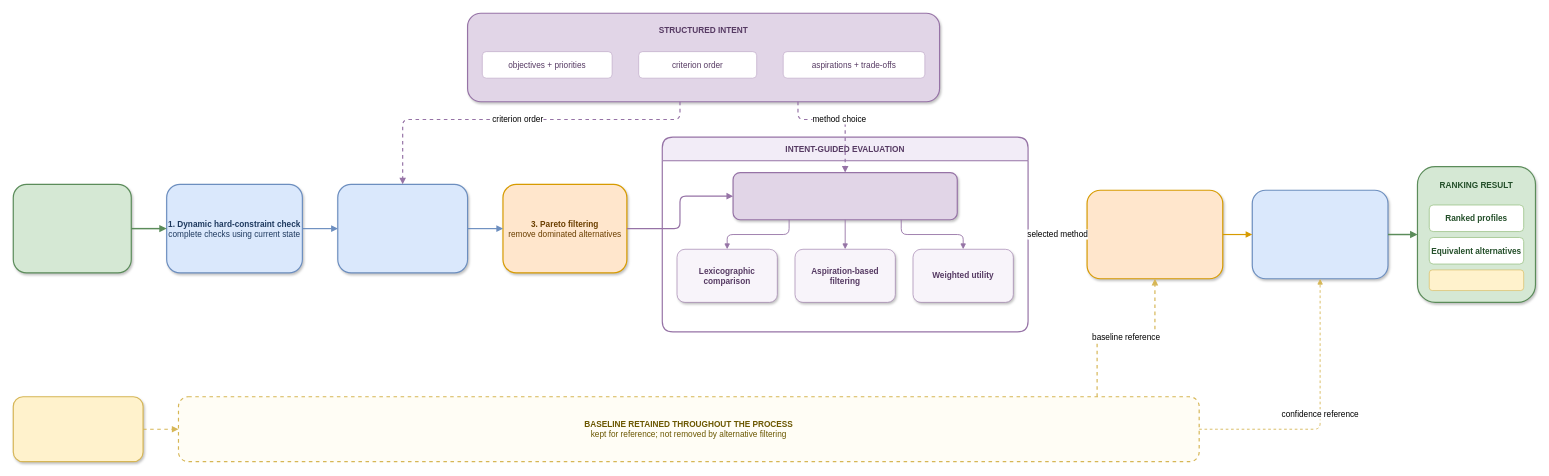
This 1549x476 diagram has some shape labels left out. The centre of each missing label's shape, as x and y in pixels:
2. Criteria normalization common scales and directions: point (403, 229)
4. Select evaluation method according to intent and criterion order: point (845, 196)
5. Compare with original profile benefit, loss and deviation from baseline: point (1155, 235)
6. Uncertainty-aware comparison confidence, intervals and robust ordering: point (1320, 235)
EVALUATED PROFILES metrics + evidence + uncertainty: point (72, 229)
No recommendation released: point (1476, 280)
ORIGINAL PROFILE submitted configuration: point (78, 430)
